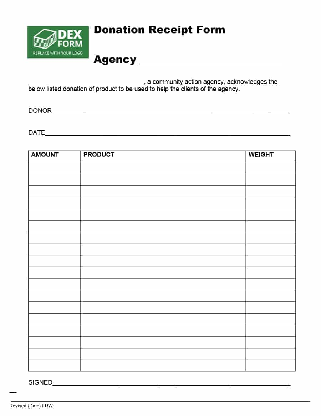textbox: (77, 357, 249, 374), (77, 322, 248, 339), (78, 160, 248, 177), (78, 253, 248, 270), (78, 276, 248, 293), (79, 334, 249, 351), (76, 241, 249, 257), (77, 230, 249, 246), (78, 184, 248, 200), (78, 311, 248, 327), (78, 346, 248, 362), (77, 265, 248, 280), (78, 300, 249, 315), (79, 195, 249, 210), (79, 219, 249, 234), (78, 289, 248, 304), (79, 207, 248, 222), (79, 172, 247, 187), (26, 311, 84, 328), (27, 252, 82, 269), (26, 299, 84, 315), (244, 334, 298, 351), (245, 277, 298, 294), (27, 160, 82, 176), (27, 196, 82, 212), (27, 334, 82, 350), (244, 253, 298, 269), (244, 311, 298, 327), (244, 358, 298, 374), (242, 347, 299, 362), (244, 160, 297, 176), (244, 172, 297, 188), (244, 230, 297, 246), (245, 265, 298, 281), (244, 299, 297, 315), (27, 184, 83, 199), (27, 288, 83, 303), (27, 324, 83, 339), (242, 324, 298, 339), (27, 172, 82, 187), (27, 207, 82, 222), (27, 230, 82, 245), (27, 265, 82, 280), (27, 277, 82, 292), (27, 358, 82, 373), (27, 242, 81, 257), (244, 184, 298, 199), (244, 196, 298, 211), (244, 207, 298, 222), (245, 242, 298, 257), (244, 289, 297, 304), (27, 347, 83, 361), (244, 219, 296, 234), (27, 219, 82, 233)
textline: (44, 124, 293, 137), (51, 376, 294, 389), (50, 104, 293, 115), (139, 51, 283, 65), (27, 74, 144, 87)
